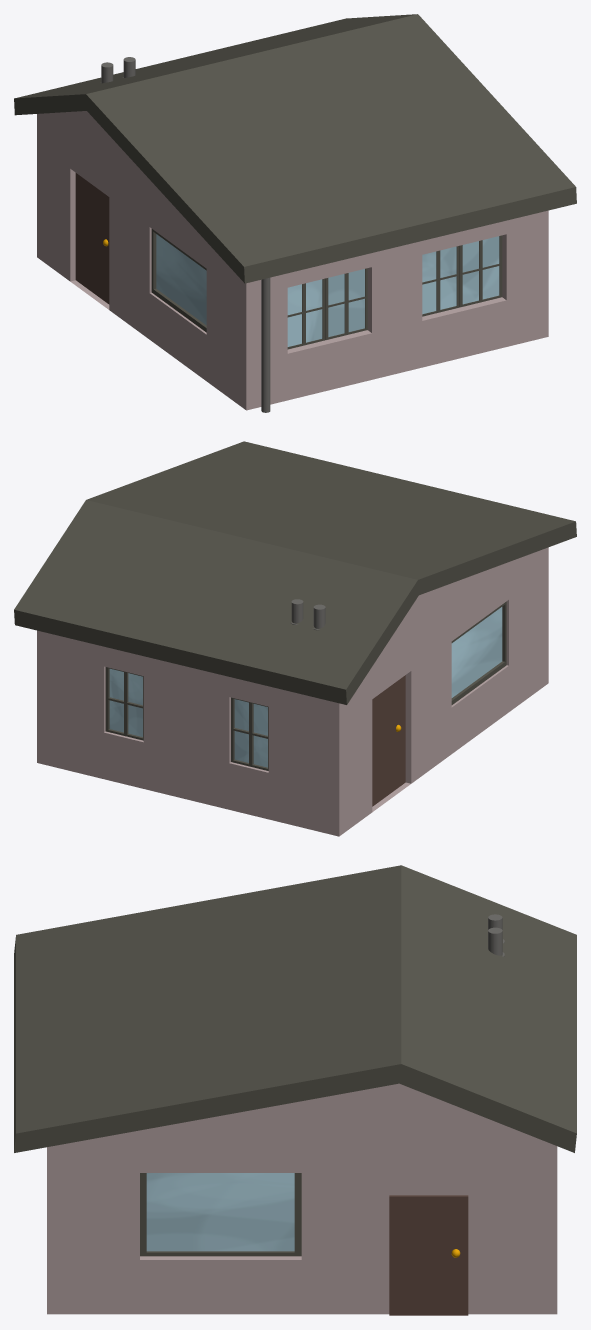
File: TPCS_House_007_V1.fbx
3 renders of one model, top to bottom at view 1: azimuth 30°, elevation 25°; view 2: azimuth 150°, elevation 25°; view 3: azimuth 270°, elevation 25°, orthographic. The views are drawn at different scales.
Parts seen in each view (by area): view 1: Cube.188; view 2: Cube.188; view 3: Cube.188.
Boxes of the visible parts, <box> form: Cube.188: <box>14,14,576,412</box>; Cube.188: <box>14,441,576,836</box>; Cube.188: <box>14,865,576,1315</box>.
Size of the model in its own units: 549 by 338 by 662.
